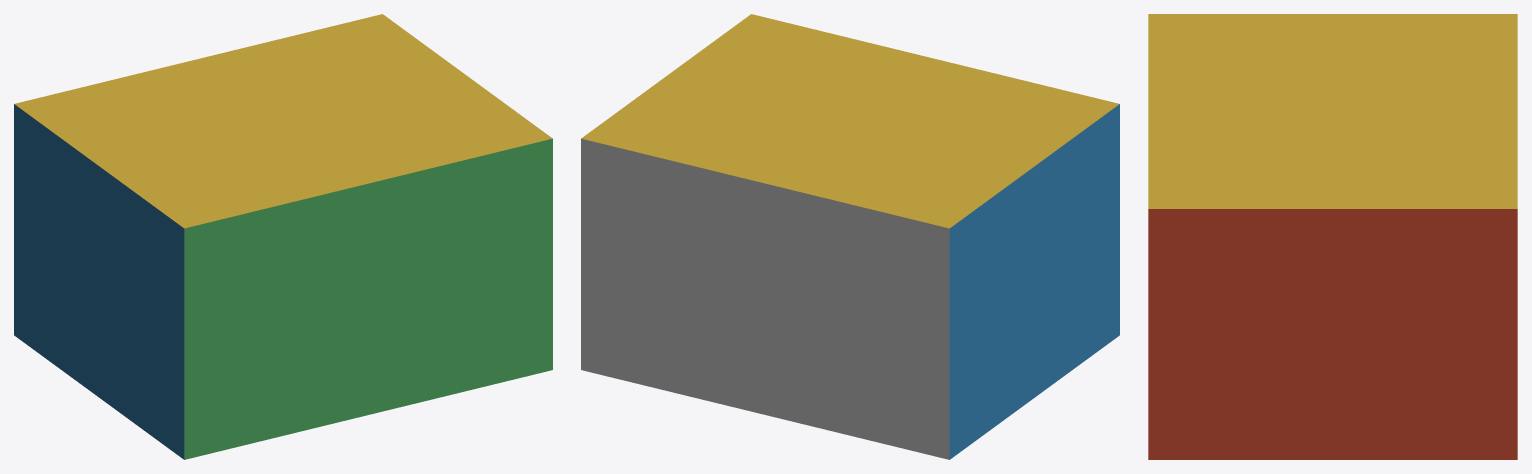
File: model-animated.glb
3 views of the same model, side by side, from view 1: azimuth 30°, elevation 25°; view 2: azimuth 150°, elevation 25°; view 3: azimuth 270°, elevation 25° (orthographic). The views are drawn at different scales.
Parts seen in each view (by area): view 1: Cube; view 2: Cube; view 3: Cube.
Boxes of the visible parts, x1=… form: Cube: x1=14, y1=14, x2=552, y2=459; Cube: x1=581, y1=14, x2=1119, y2=459; Cube: x1=1148, y1=14, x2=1517, y2=459.
Bounding box in the file's own units: 1 × 0.6 × 0.8.
